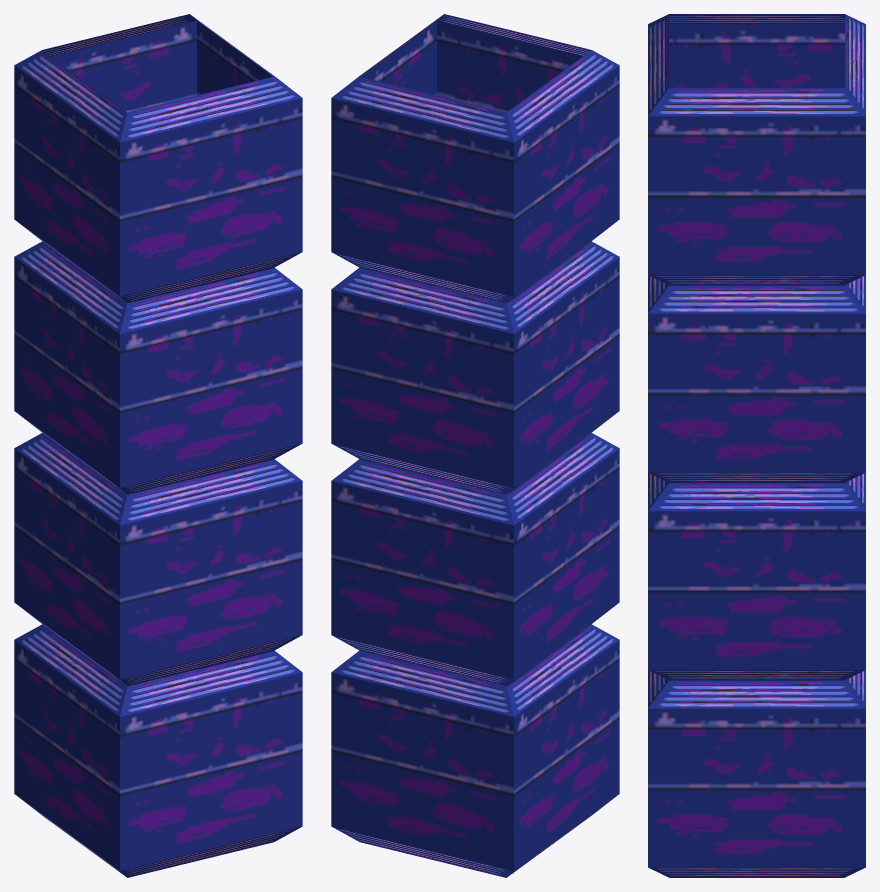
The model's file is pillar_sample_02.fbx.
The picture shows the model from 3 angles, left to right: view 1: azimuth 30°, elevation 25°; view 2: azimuth 150°, elevation 25°; view 3: azimuth 270°, elevation 25°; orthographic projection. The views are drawn at different scales.
Parts seen in each view (by area): view 1: pillar_sample_02; view 2: pillar_sample_02; view 3: pillar_sample_02.
Boxes of the visible parts, x1,y1,x2,y2 form: pillar_sample_02: [14, 14, 302, 877]; pillar_sample_02: [331, 14, 619, 877]; pillar_sample_02: [648, 14, 865, 877].
Size of the model in its own units: 200 by 800 by 200.
